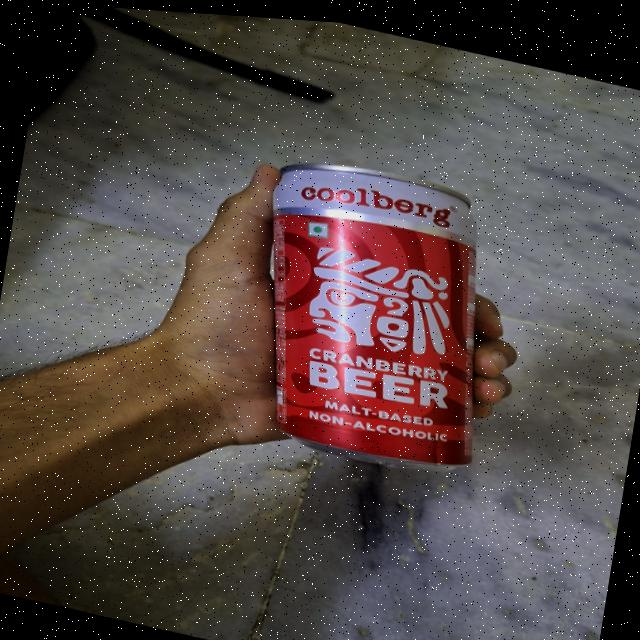Coolberg: (220, 127, 550, 499)
